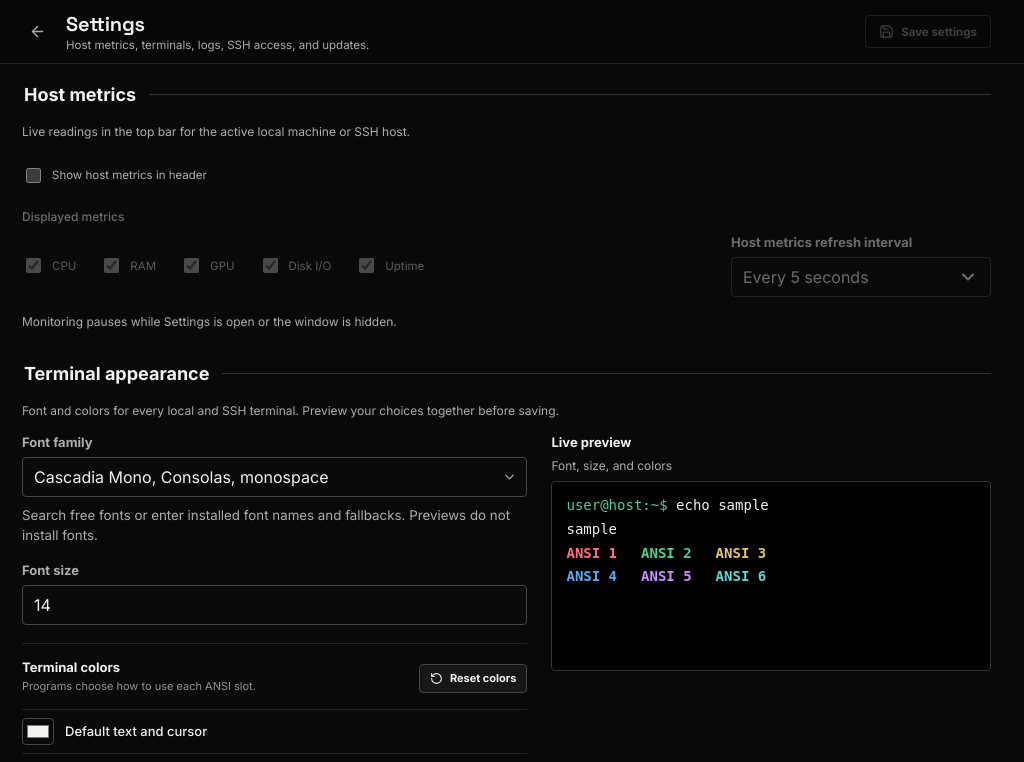
Settings actions › surfaces a failed save without claiming it worked
Replace the text in the number field labelled "Font size" with "16" at (275,605), box [22,585,528,625]
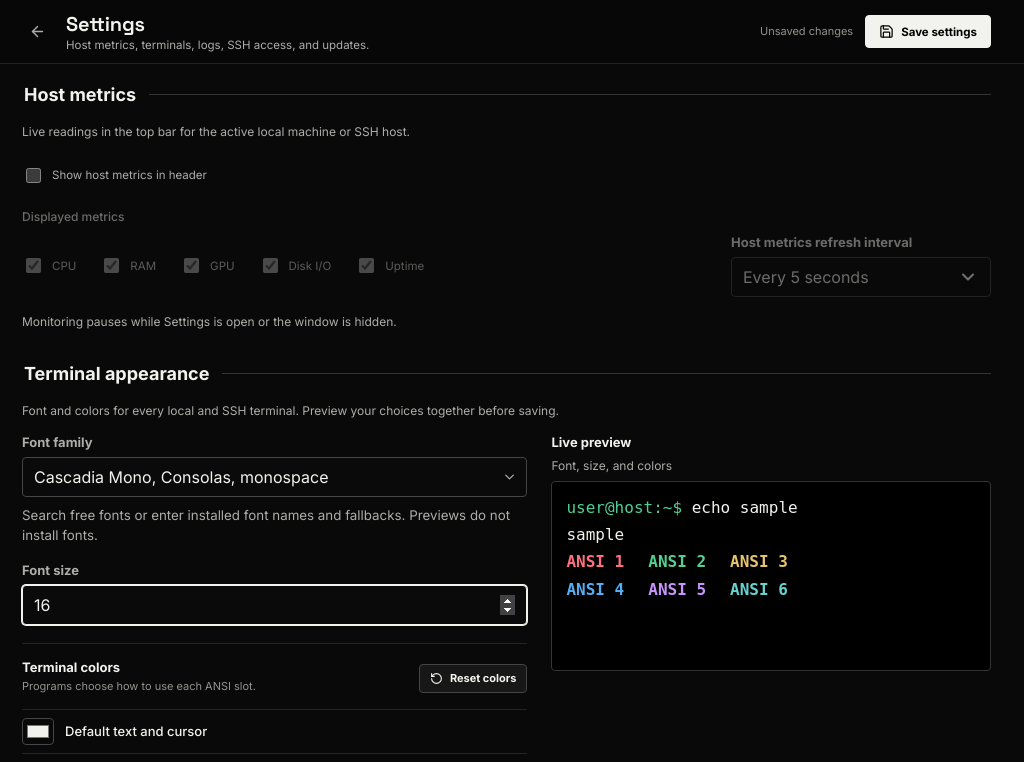
Click the button "Save settings".
click(928, 32)  # box [865,15,991,48]
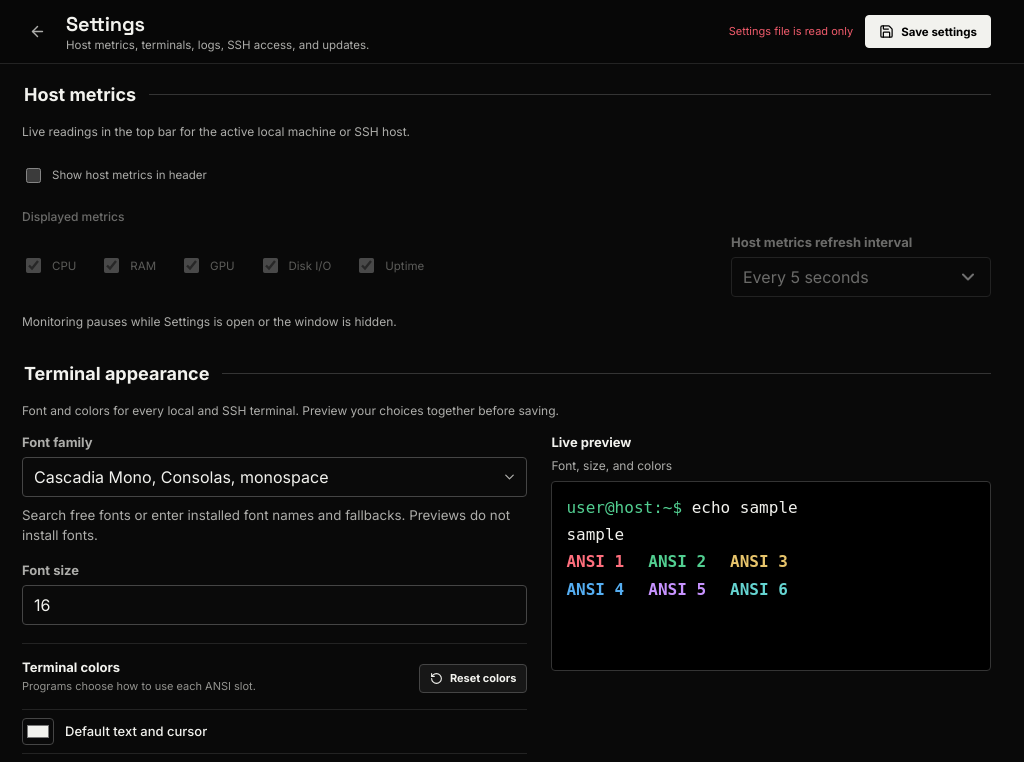
expect the button "Save settings" is enabled: met, box [865,15,991,48]
expect the text "Settings file is read only" is shown: met, box [729,24,853,39]
